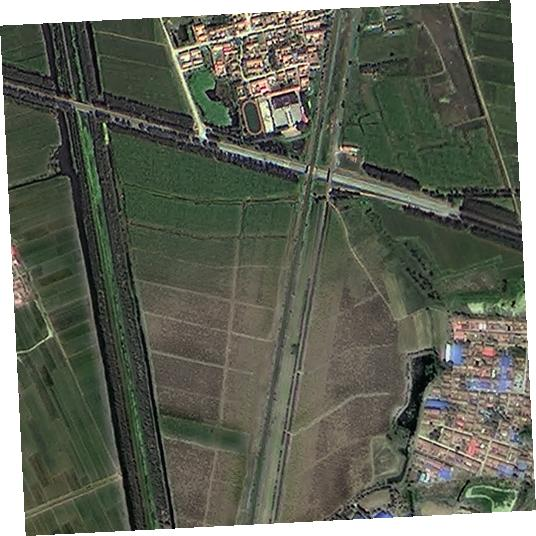school: (236, 86, 314, 142)
